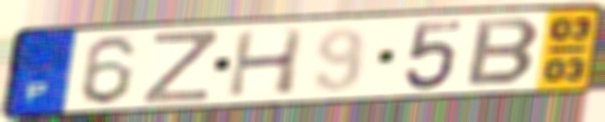5: (401, 18, 467, 91)
6: (78, 32, 140, 109)
9: (312, 25, 372, 94)
B: (463, 16, 545, 88)
H: (224, 26, 308, 99)
Z: (140, 29, 220, 106)
